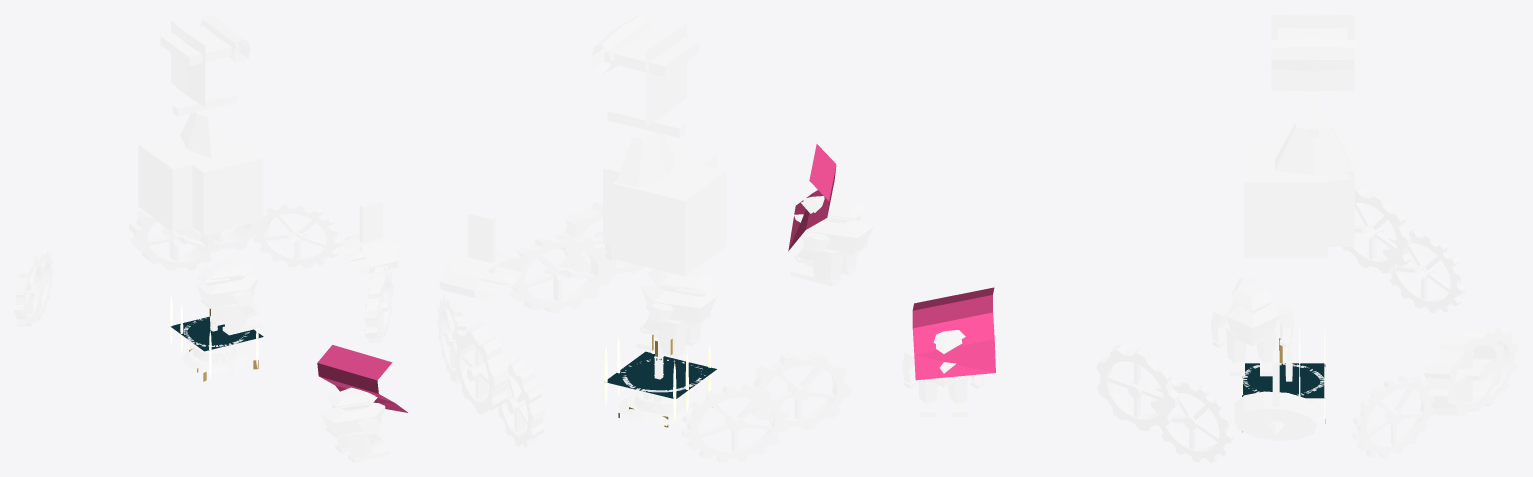
File: ile-horloge-v5-leger.glb
3 renders of one model, left to right at view 1: azimuth 30°, elevation 25°; view 2: azimuth 150°, elevation 25°; view 3: azimuth 270°, elevation 25°, orthographic. The views are drawn at different scales.
Visible parts, largest first — view 1: ile_anime1.037, ile_anime5.023, ile_anime15.003, ile_anime14.003, ile_anime8.007, ile_anime3.033, ile_anime9.007, ile_banniere0.023, ile_anime13.004, ile_anime4.027, ile_anime2.037, ile_anime7.007 (+7 smaller); view 2: ile_anime2.037, ile_anime5.023, ile_anime15.003, ile_anime14.003, ile_anime6.009, ile_anime11.007, ile_anime13.004, ile_anime12.005, ile_anime10.007, ile_anime4.027, ile_anime3.033, ile_anime9.007 (+8 smaller); view 3: ile_anime0.037, ile_anime5.023, ile_banniere0.023, ile_anime15.003, ile_anime10.007, ile_anime7.007, ile_anime13.004, ile_anime1.037, ile_anime4.027, ile_anime8.007, ile_anime11.007, ile_anime6.009 (+6 smaller).
Part boxes in pixels (<box>): ile_anime1.037: <box>169,133,263,234</box>; ile_anime5.023: <box>160,14,250,107</box>; ile_anime15.003: <box>196,260,262,335</box>; ile_anime14.003: <box>320,387,389,462</box>; ile_anime8.007: <box>253,202,342,268</box>; ile_anime3.033: <box>138,134,182,231</box>; ile_anime9.007: <box>128,210,219,270</box>; ile_banniere0.023: <box>317,345,407,412</box>; ile_anime13.004: <box>342,200,403,274</box>; ile_anime4.027: <box>172,91,237,158</box>; ile_anime2.037: <box>168,134,232,231</box>; ile_anime7.007: <box>365,271,393,343</box>; ile_anime2.037: <box>612,164,725,276</box>; ile_anime5.023: <box>591,14,699,126</box>; ile_anime15.003: <box>636,269,716,357</box>; ile_anime14.003: <box>790,195,873,286</box>; ile_anime6.009: <box>508,233,612,312</box>; ile_anime11.007: <box>681,383,789,462</box>; ile_anime13.004: <box>439,211,524,299</box>; ile_anime12.005: <box>748,352,851,430</box>; ile_anime10.007: <box>454,322,509,414</box>; ile_anime4.027: <box>607,106,685,187</box>; ile_anime3.033: <box>613,162,726,275</box>; ile_anime9.007: <box>498,356,545,447</box>; ile_anime0.037: <box>1244,147,1327,258</box>; ile_anime5.023: <box>1271,14,1354,91</box>; ile_banniere0.023: <box>912,287,995,380</box>; ile_anime15.003: <box>1210,277,1293,376</box>; ile_anime10.007: <box>1423,331,1504,416</box>; ile_anime7.007: <box>1096,344,1179,431</box>; ile_anime13.004: <box>1234,350,1317,440</box>; ile_anime1.037: <box>1243,147,1326,258</box>; ile_anime4.027: <box>1275,93,1351,181</box>; ile_anime8.007: <box>1352,373,1434,458</box>; ile_anime11.007: <box>1382,228,1465,313</box>; ile_anime6.009: <box>1150,377,1233,462</box>.
Size of the model in its own units: 12.24 by 10.42 by 14.78.
